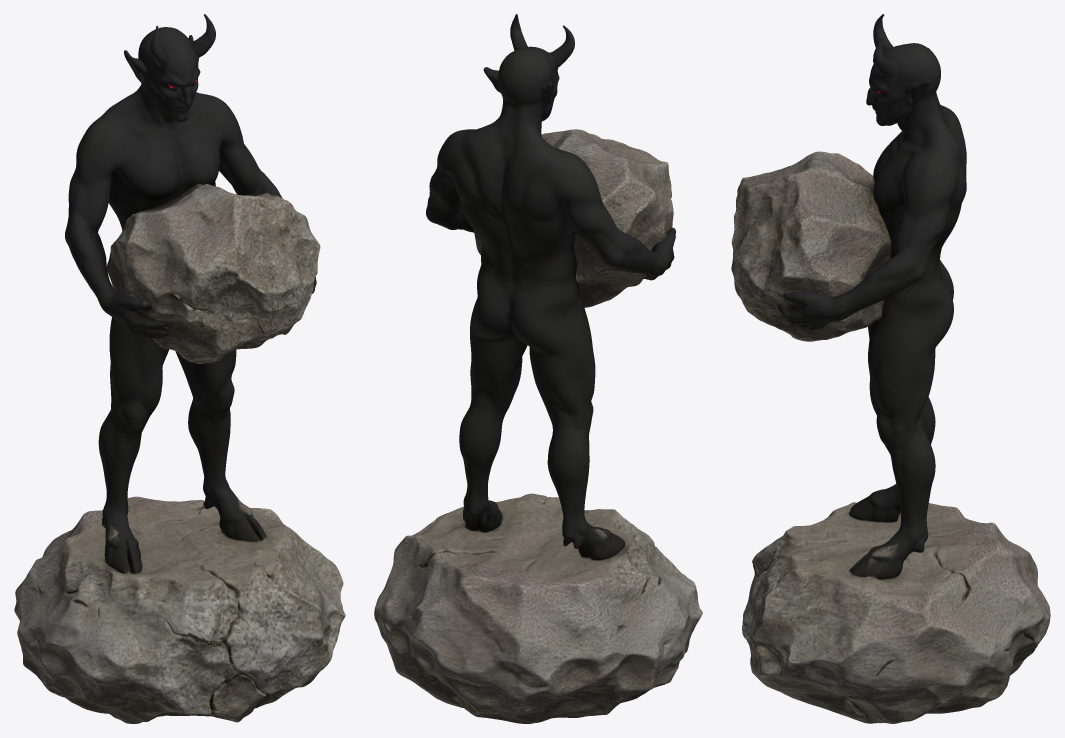
File: 60-la-piedra-del-diablo-optimized.glb
3 renders of one model, left to right at view 1: azimuth 30°, elevation 25°; view 2: azimuth 150°, elevation 25°; view 3: azimuth 270°, elevation 25°, orthographic.
Visible parts, largest first — view 1: tripo_node_ceeec4c0-43d6-444b-80ff-7f84524f3abe; view 2: tripo_node_ceeec4c0-43d6-444b-80ff-7f84524f3abe; view 3: tripo_node_ceeec4c0-43d6-444b-80ff-7f84524f3abe.
Part boxes in pixels (<box>): tripo_node_ceeec4c0-43d6-444b-80ff-7f84524f3abe: <box>14,14,345,723</box>; tripo_node_ceeec4c0-43d6-444b-80ff-7f84524f3abe: <box>374,14,702,723</box>; tripo_node_ceeec4c0-43d6-444b-80ff-7f84524f3abe: <box>731,14,1050,723</box>.
Size of the model in its own units: 0.4438 by 1 by 0.4405.
Materials: 1 (1 with a texture image).
